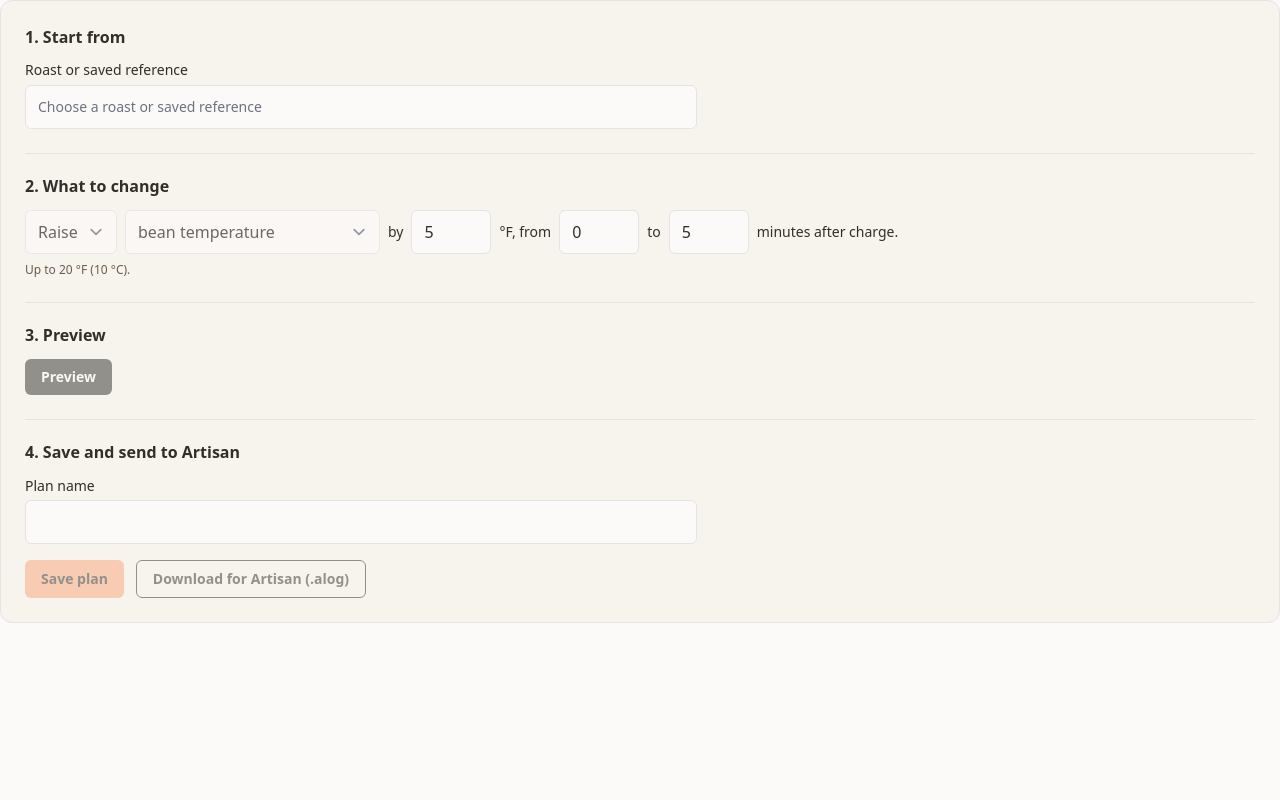
Test: choosing what a plan starts from › does not say there is nothing to start from when the roasts could not be loaded
Focus the dropdown labelled "Roast or saved reference" at (361, 107), box [25, 85, 697, 129]
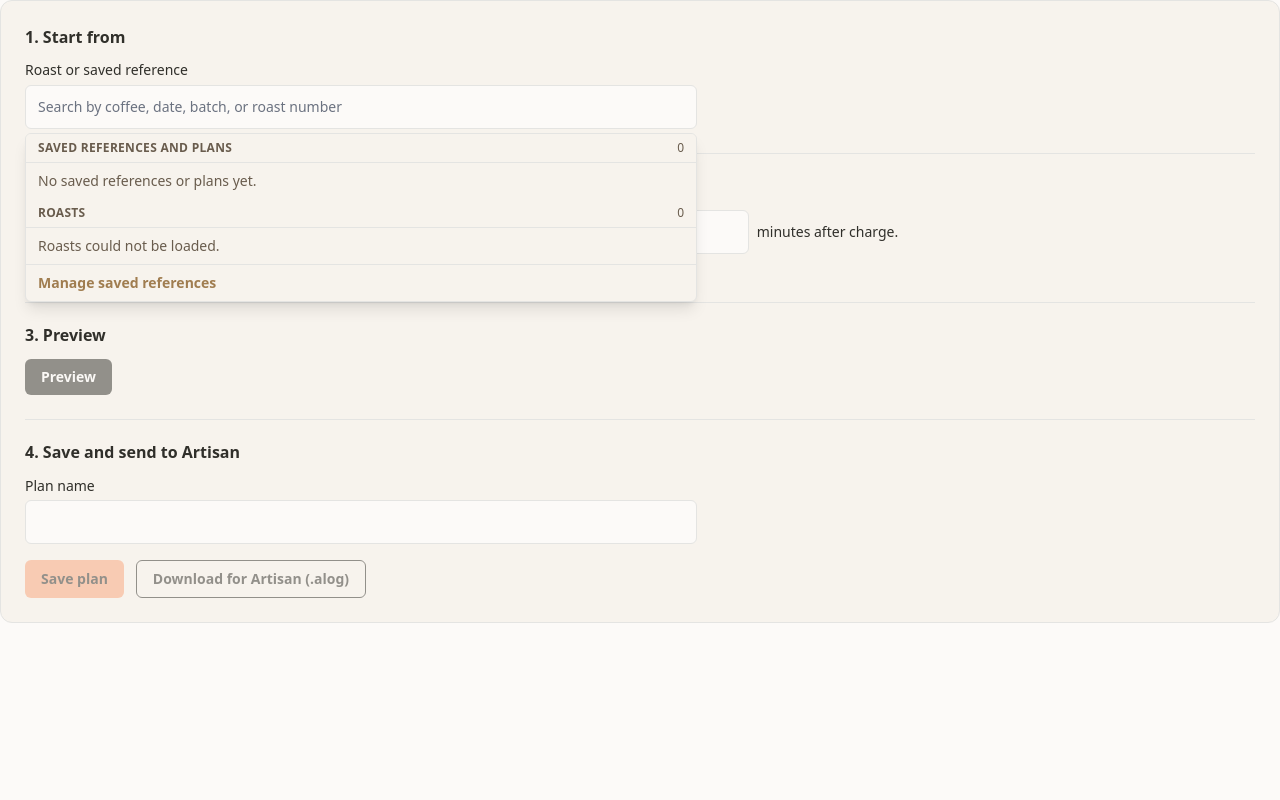
Result: the text "Roasts could not be loaded." is shown at [38, 236, 220, 255]
